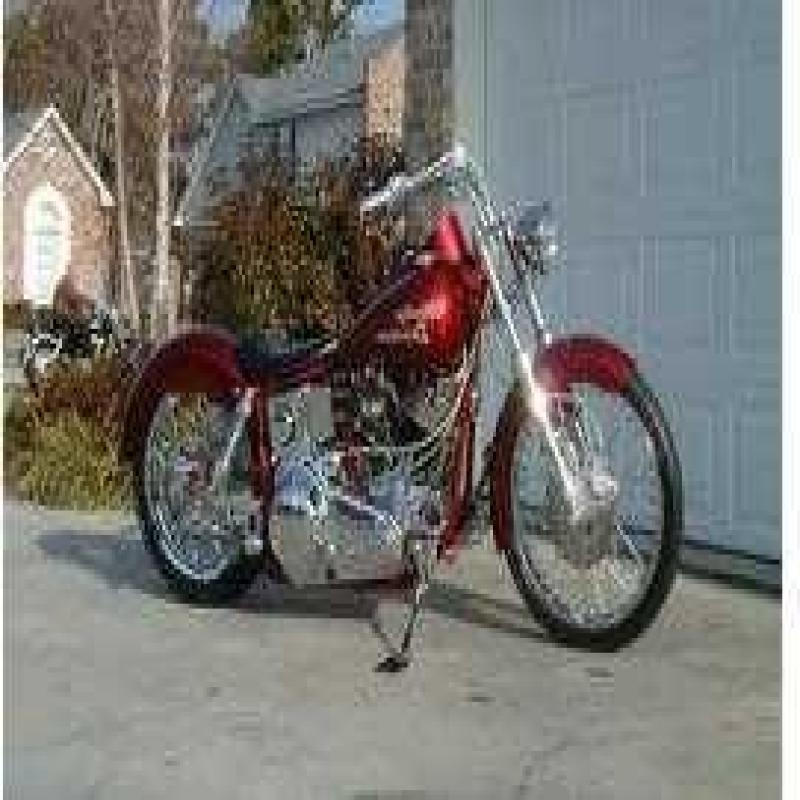bike: (131, 151, 693, 686)
